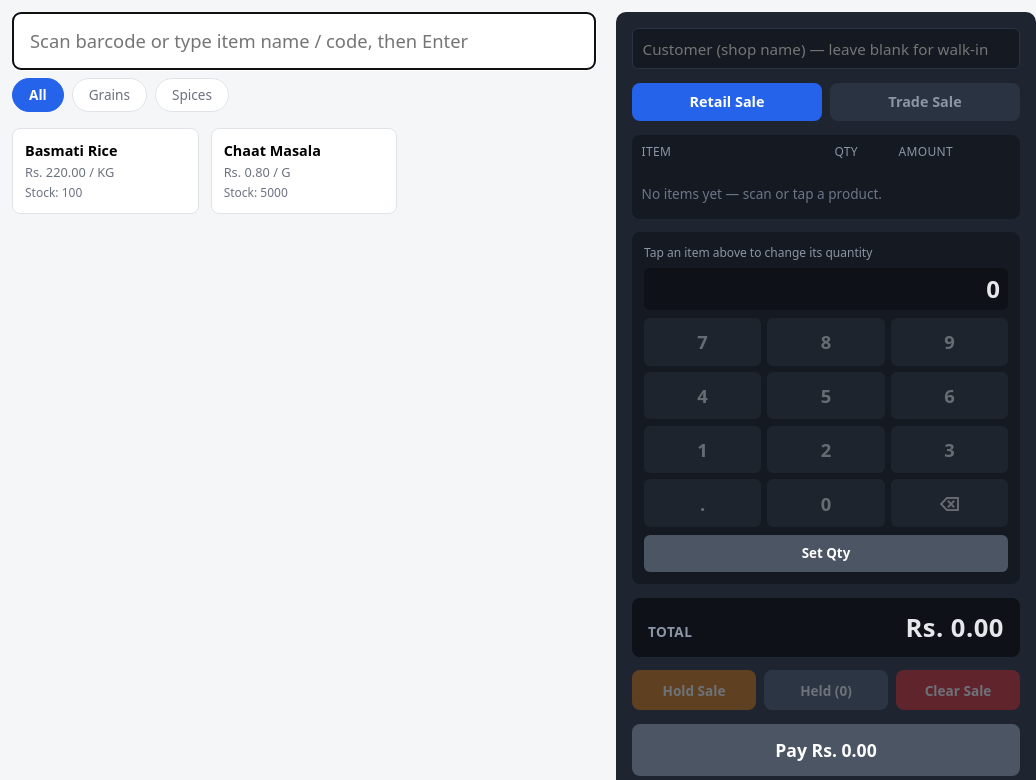
Test: POS — product grid and cart › changes a line quantity via the keypad
Click the text "Basmati Rice": [71, 150] box x1=25 y1=141 x2=118 y2=160
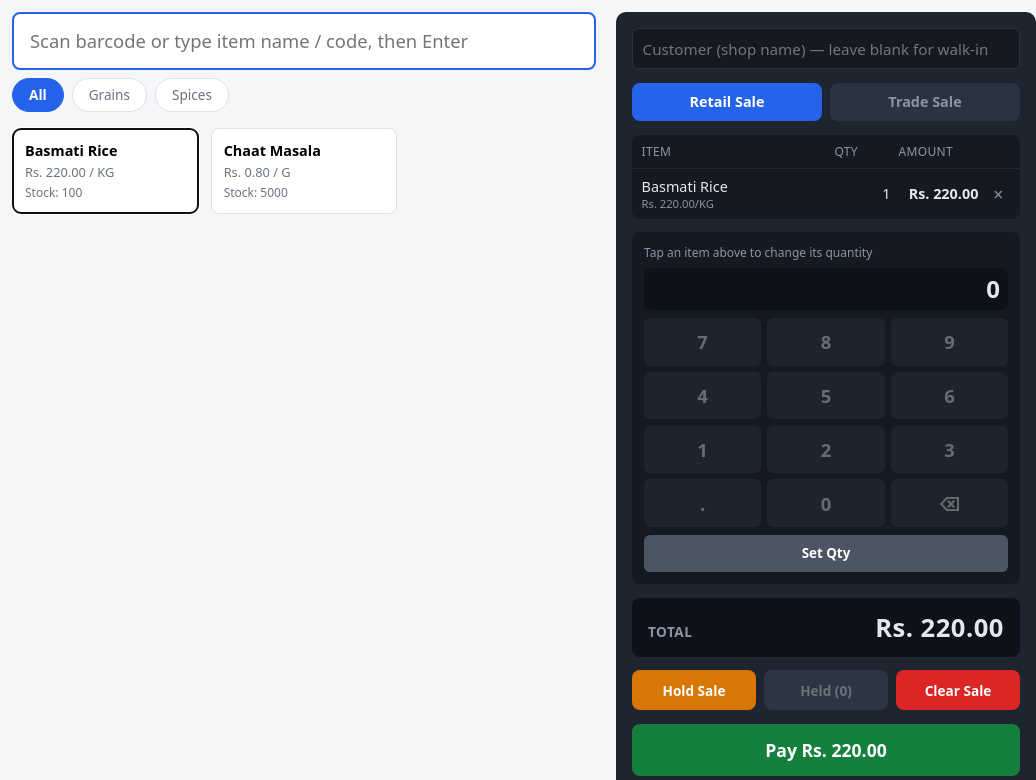
Click the element with class "receipt-row": [826, 193] box x1=632 y1=168 x2=1020 y2=219
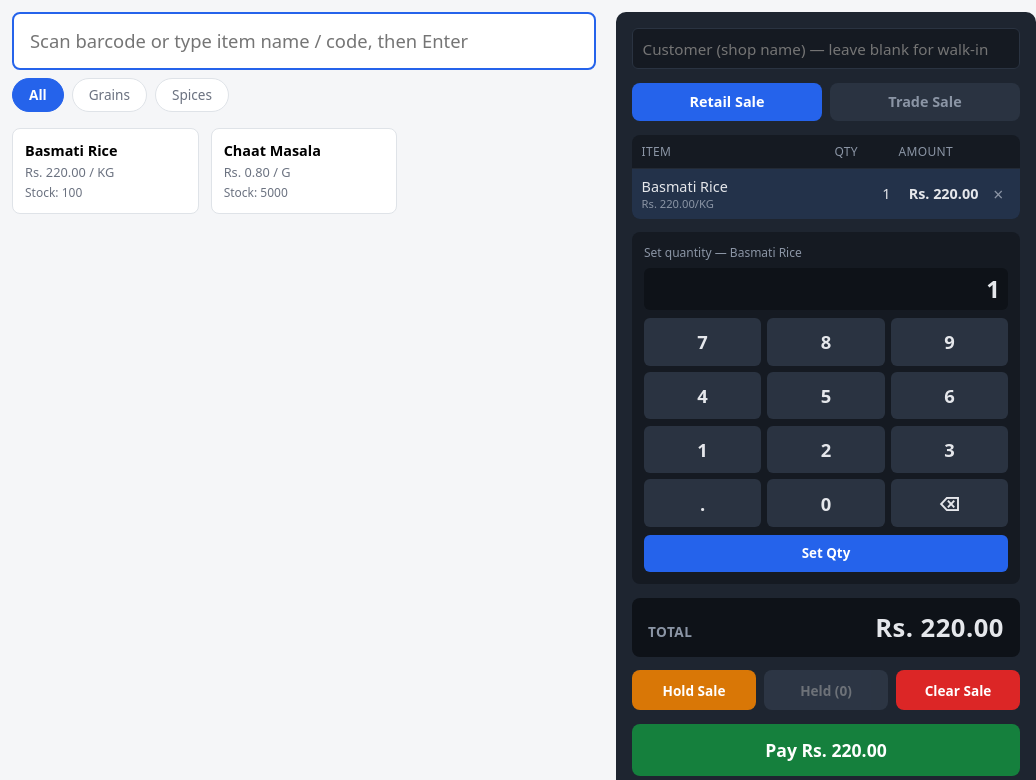
Click the button "⌫": [949, 503] box x1=891 y1=479 x2=1008 y2=527
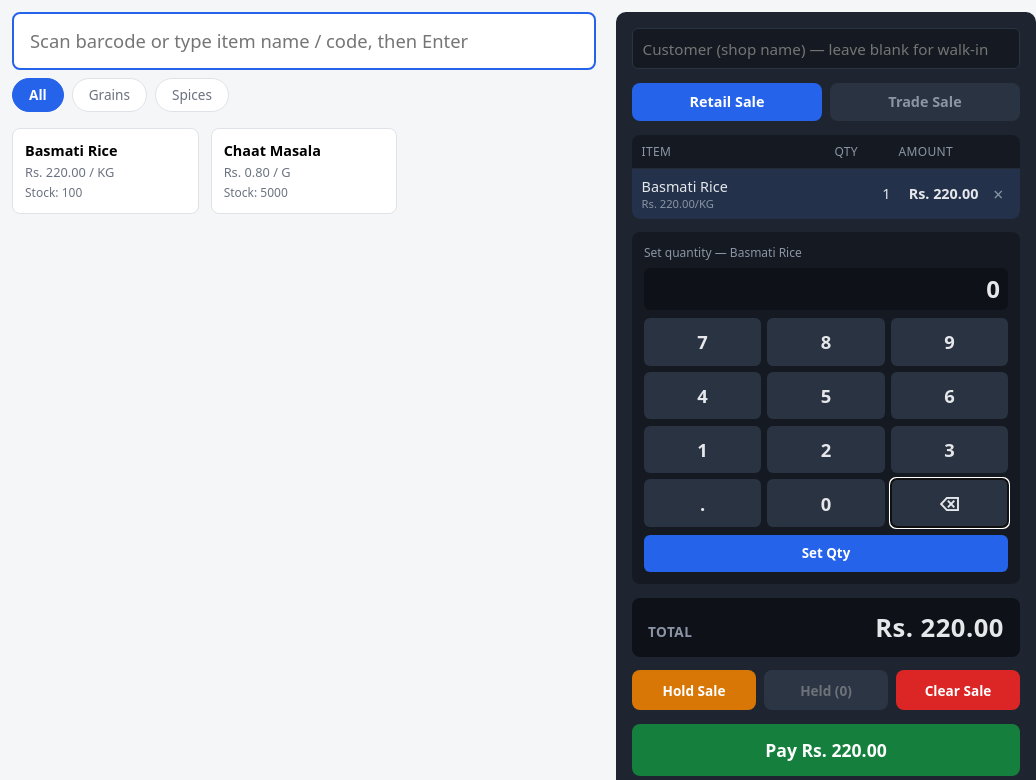
Click the button "5": [826, 396] box x1=768 y1=372 x2=885 y2=419
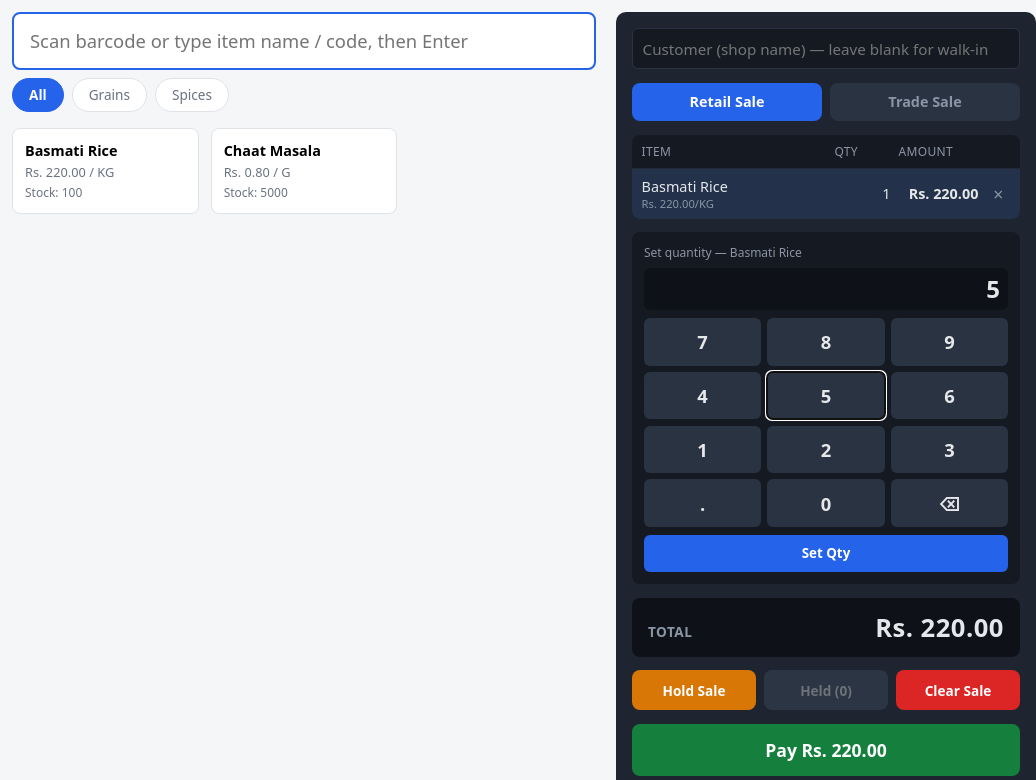
Click the button "Set Qty": [826, 553] box x1=644 y1=535 x2=1008 y2=572
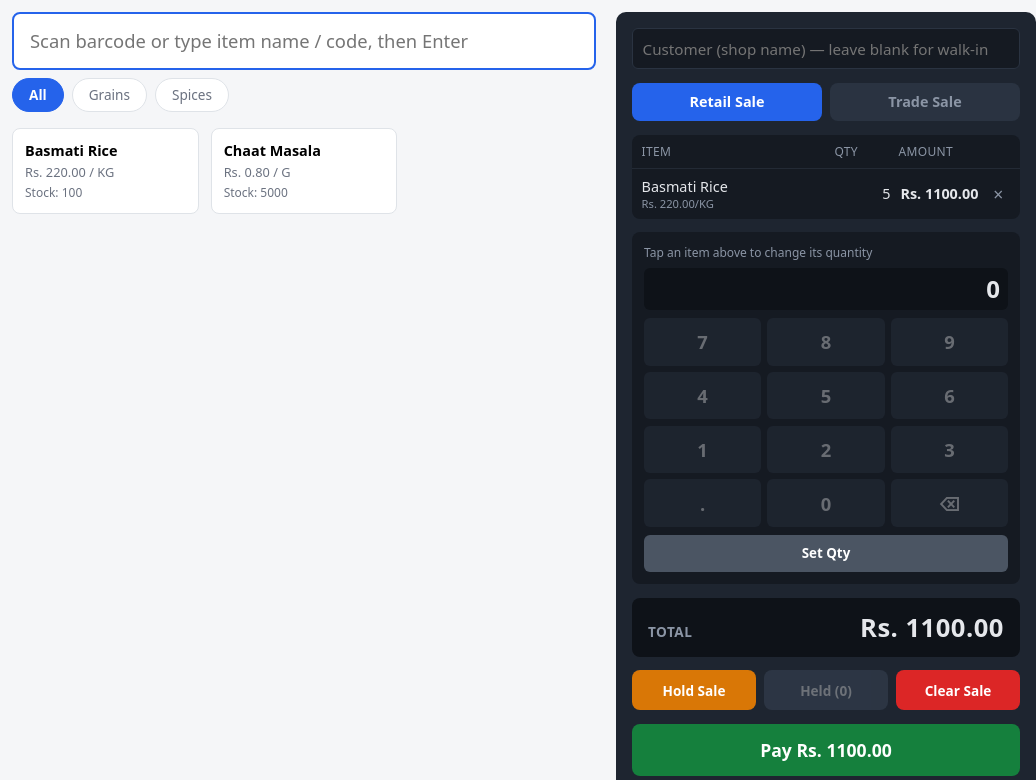
Check: the element with class "total-display" shows "Rs. 1100.00", box x1=860 y1=610 x2=1004 y2=645
